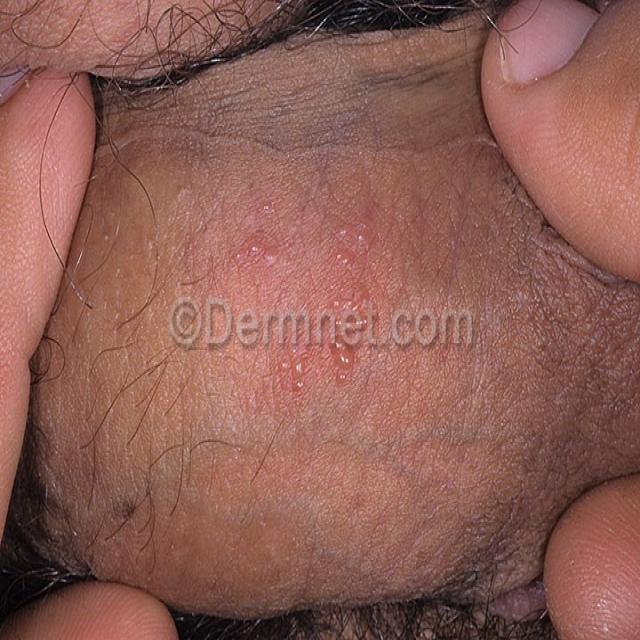Shingles: (232, 212, 375, 403)
